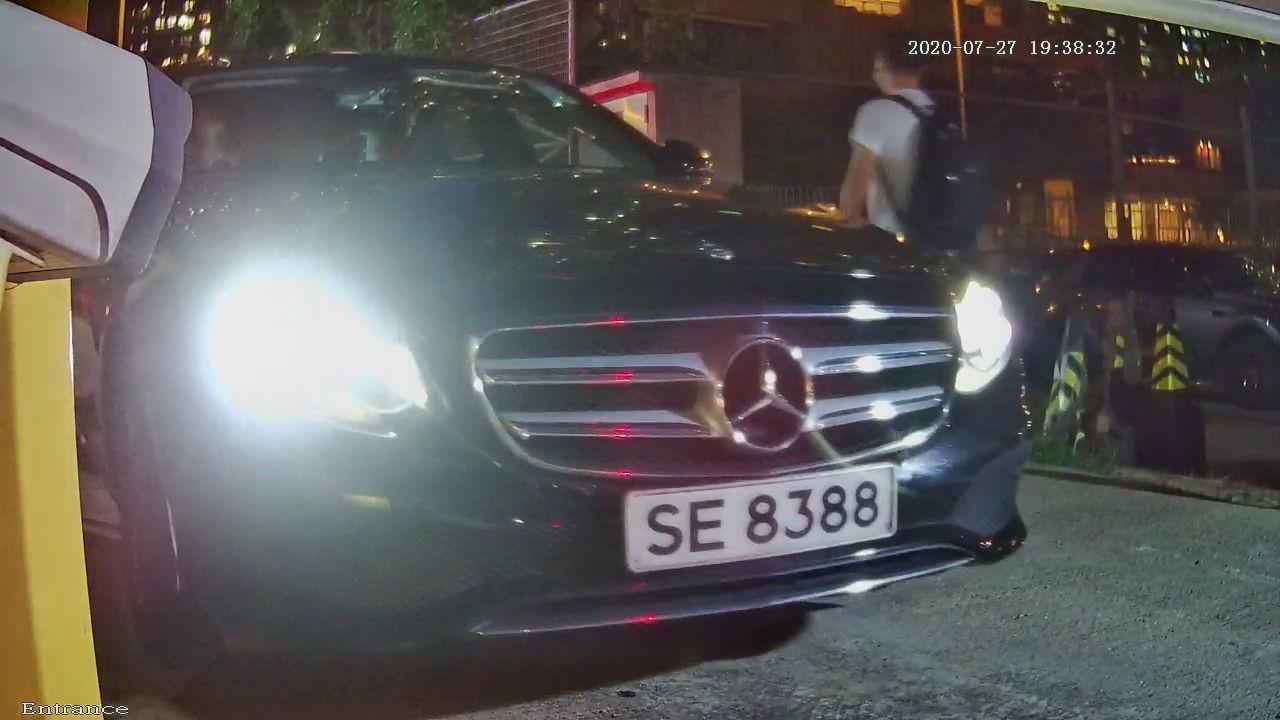privatecar: (121, 17, 1023, 682)
